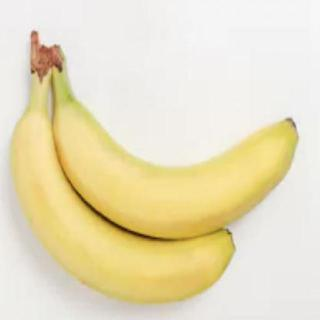banana: (9, 111, 238, 307), (51, 105, 301, 241)
